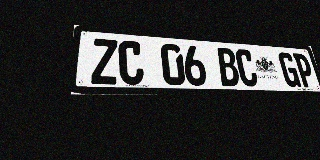0: (160, 43, 186, 85)
6: (182, 45, 208, 86)
B: (215, 47, 241, 86)
C: (118, 40, 144, 85), (234, 49, 259, 87)
G: (277, 52, 301, 87)
P: (292, 53, 316, 87)
Z: (91, 38, 118, 84)
